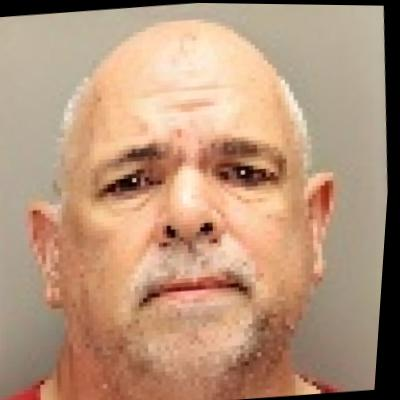sad: (56, 37, 320, 374)
